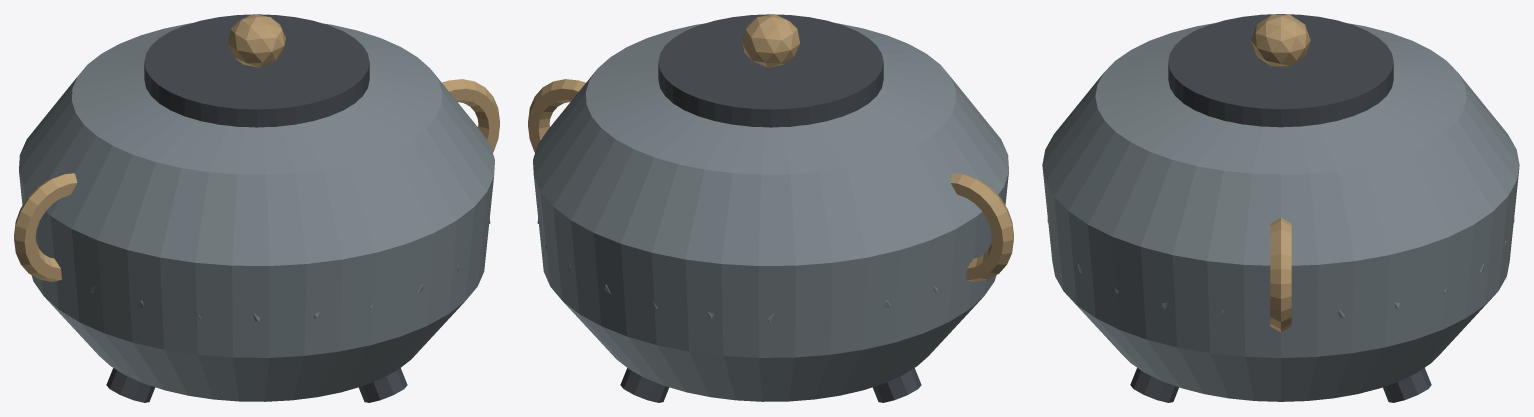
File: tea_chagama.glb
The picture shows the model from 3 angles, left to right: view 1: azimuth 30°, elevation 25°; view 2: azimuth 150°, elevation 25°; view 3: azimuth 270°, elevation 25°; orthographic projection.
Visible parts, largest first — view 1: Dome shaped tea cauldron, Inset tea-iron lid, Cast handle lug, Gold sculpted lid boss, Cast handle lug.001, Cast tripodal support1, Cast tripodal support2; view 2: Dome shaped tea cauldron, Inset tea-iron lid, Cast handle lug, Gold sculpted lid boss, Cast handle lug.001, Cast tripodal support1, Cast tripodal support0; view 3: Dome shaped tea cauldron, Inset tea-iron lid, Gold sculpted lid boss, Cast handle lug.001, Cast tripodal support0, Cast tripodal support2.
Boxes of the visible parts, x1,y1,x2,y2 form: Dome shaped tea cauldron: [19, 23, 494, 401]; Inset tea-iron lid: [144, 14, 369, 127]; Cast handle lug: [14, 173, 77, 281]; Gold sculpted lid boss: [228, 14, 285, 67]; Cast handle lug.001: [442, 79, 499, 152]; Cast tripodal support1: [106, 368, 155, 402]; Cast tripodal support2: [358, 368, 407, 402]; Dome shaped tea cauldron: [533, 23, 1008, 401]; Inset tea-iron lid: [658, 14, 883, 127]; Cast handle lug: [950, 173, 1013, 281]; Gold sculpted lid boss: [742, 14, 799, 67]; Cast handle lug.001: [528, 79, 585, 152]; Cast tripodal support1: [872, 368, 921, 402]; Cast tripodal support0: [620, 368, 669, 402]; Dome shaped tea cauldron: [1042, 23, 1519, 401]; Inset tea-iron lid: [1168, 14, 1393, 127]; Gold sculpted lid boss: [1251, 14, 1310, 66]; Cast handle lug.001: [1270, 217, 1291, 332]; Cast tripodal support0: [1383, 368, 1431, 402]; Cast tripodal support2: [1130, 368, 1178, 402].
Bounding box in the file's own units: 1.95 × 1.36 × 1.66.
